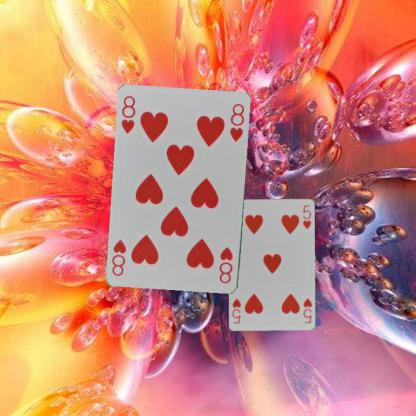5h: (301, 295, 313, 324)
8h: (118, 93, 137, 135), (216, 244, 235, 285)
